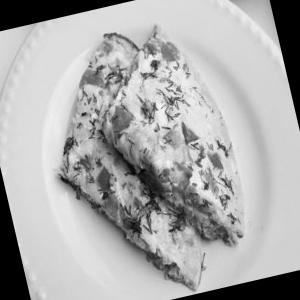omelet: (18, 10, 275, 300)
